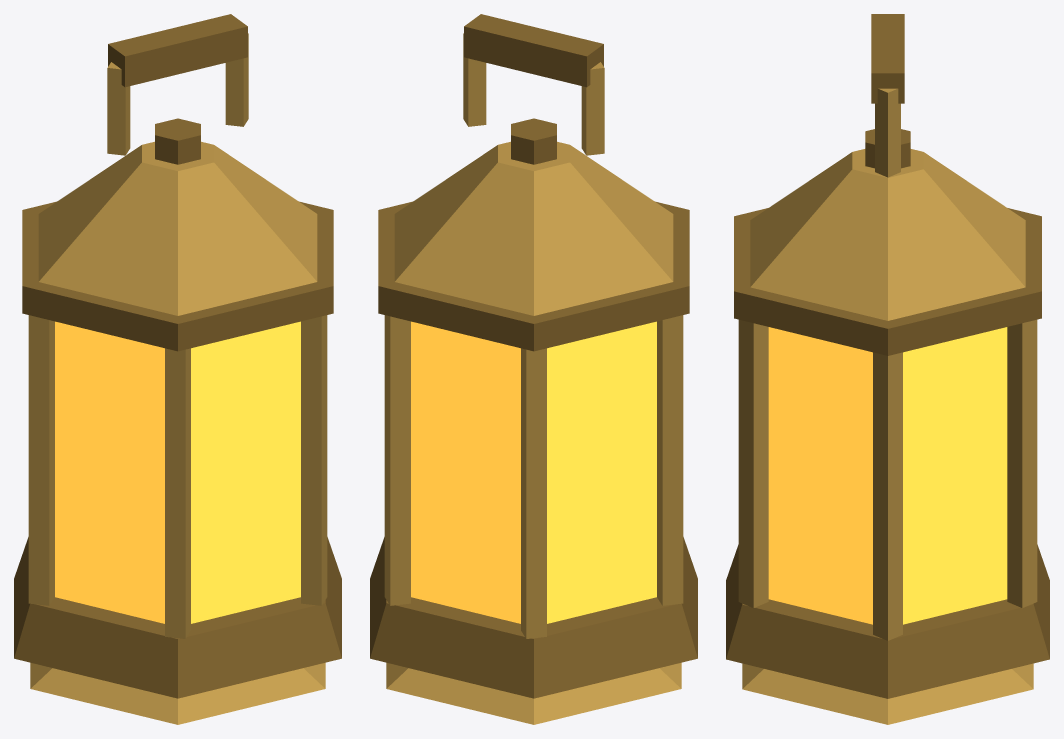
The model's file is waylamp.glb.
3 views of the same model, side by side, from view 1: azimuth 30°, elevation 25°; view 2: azimuth 150°, elevation 25°; view 3: azimuth 270°, elevation 25° (orthographic).
Parts seen in each view (by area): view 1: swing; view 2: swing; view 3: swing.
Boxes of the visible parts, bbox=[...] form: swing: bbox=[14, 14, 341, 724]; swing: bbox=[370, 14, 697, 724]; swing: bbox=[726, 14, 1049, 724].
Size of the model in its own units: 0.2 by 0.36 by 0.1732.
